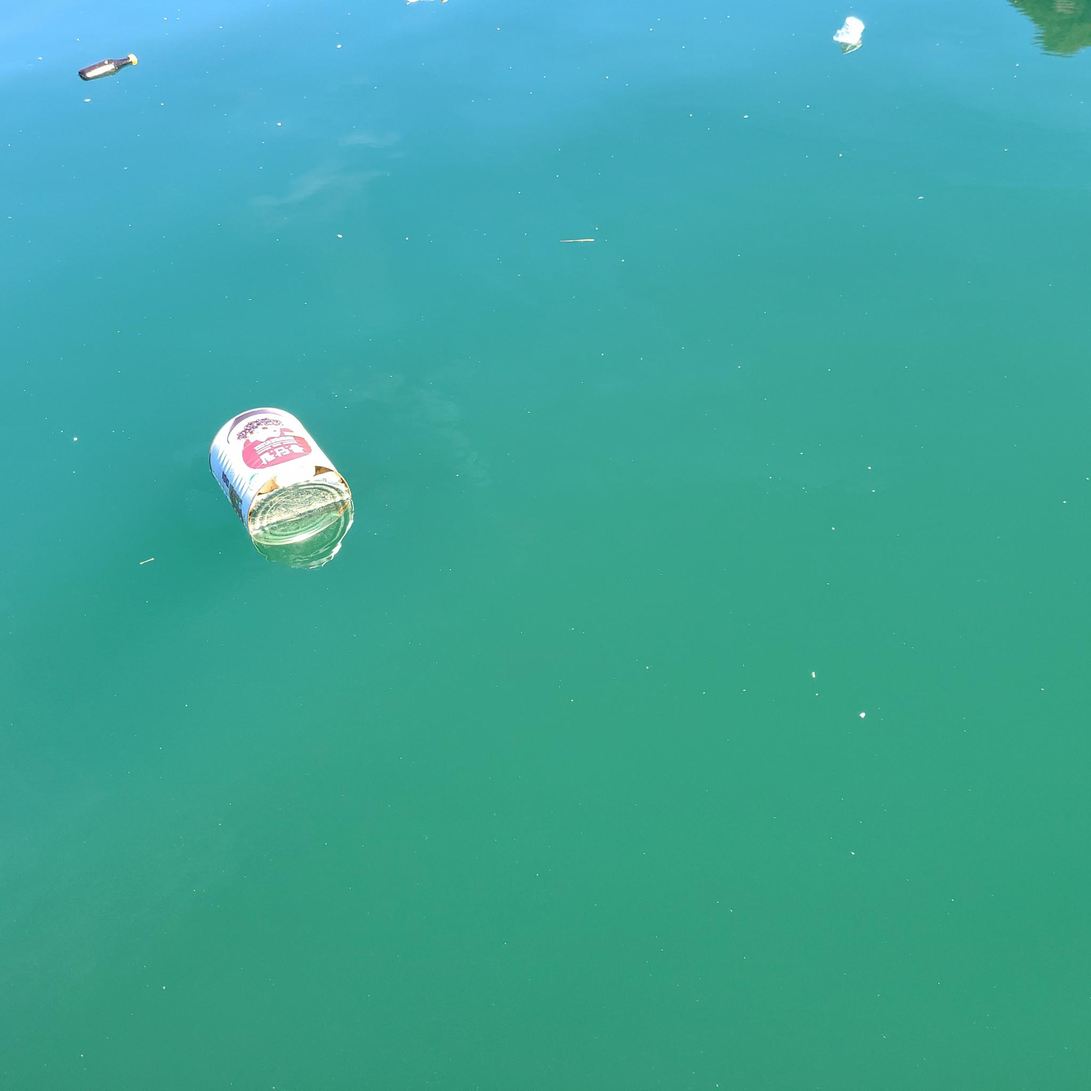sampah_terapung: (79, 54, 139, 82), (834, 17, 865, 45)
